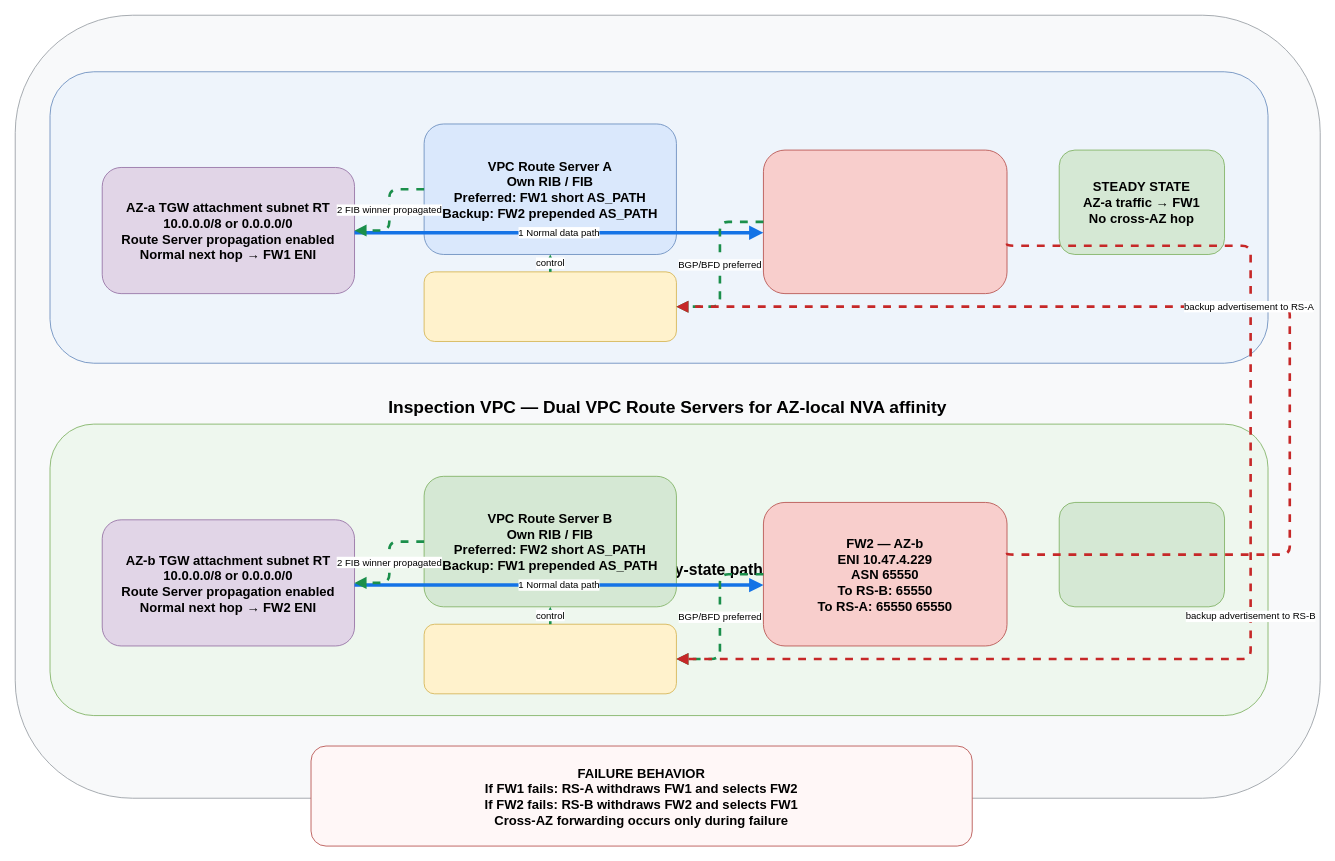
The diagram is 1335 pixels wide and 861 high, and some of its shapes have lost their labels. The box of each missing label's shape, as (x1, y1, x2, y2) in pixels:
Availability Zone A — steady-state path stays local: (49, 71, 1268, 363)
FW1 — AZ-a ENI 10.47.3.42 ASN 65550 To RS-A: 65550 To RS-B: 65550 65550: (763, 149, 1007, 294)
Route Server Endpoint A AWS-managed ENI BGP / BFD termination: (423, 271, 676, 341)
Route Server Endpoint B AWS-managed ENI BGP / BFD termination: (423, 623, 676, 694)
STEADY STATE AZ-b traffic → FW2 No cross-AZ hop: (1058, 502, 1225, 607)
